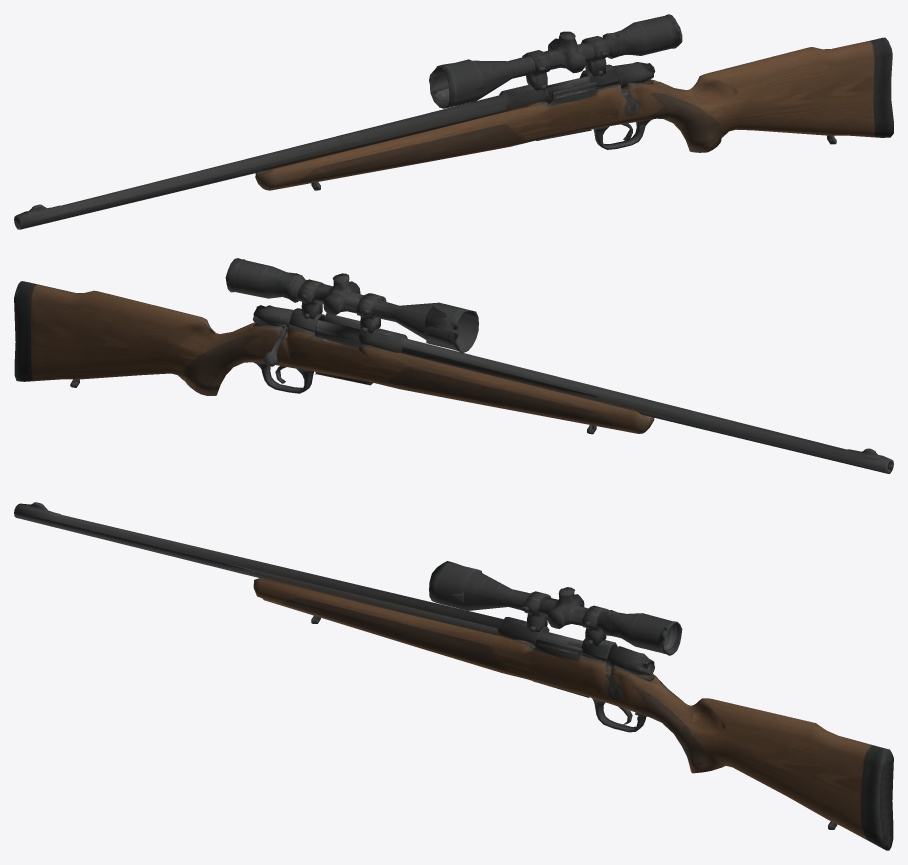
Rendered from arma_fucile.glb.
The picture shows the model from 3 angles, top to bottom: view 1: azimuth 30°, elevation 25°; view 2: azimuth 150°, elevation 25°; view 3: azimuth 330°, elevation 25°; orthographic projection.
Bounding box in the file's own units: 0.9556 × 0.1904 × 0.0527.
1 material, 1 textured.
